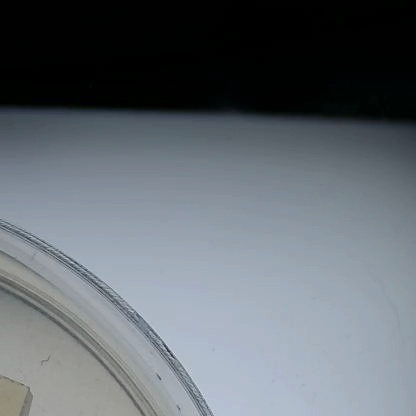worm: (39, 354, 55, 366)
